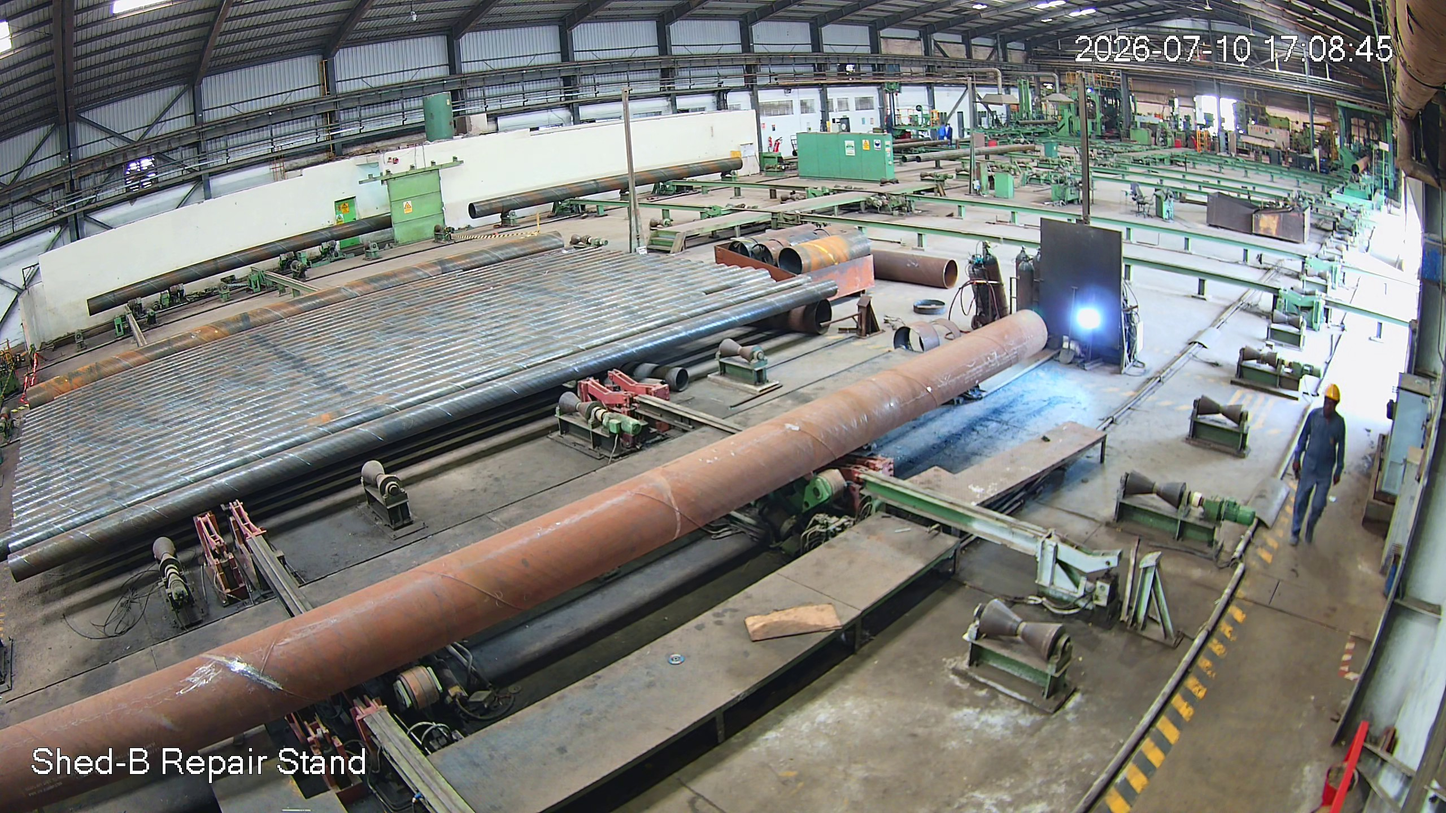Helmet: (1321, 379, 1355, 433)
Person: (1284, 383, 1353, 548)
